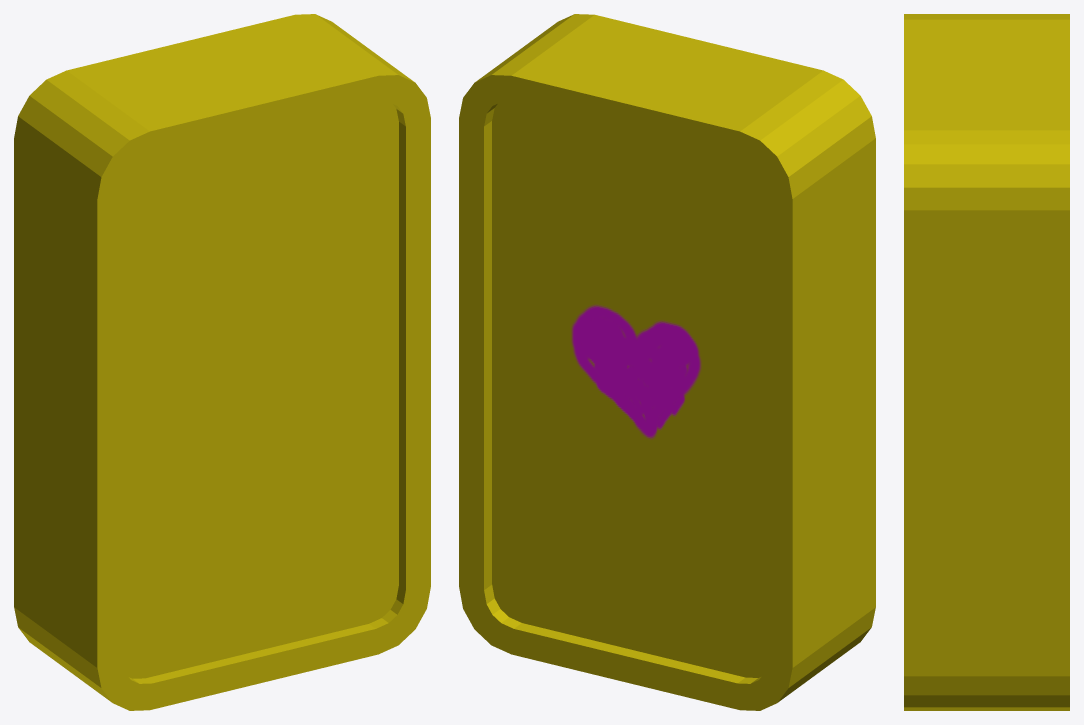
Rendered from domino.glb.
3 renders of one model, left to right at view 1: azimuth 30°, elevation 25°; view 2: azimuth 150°, elevation 25°; view 3: azimuth 270°, elevation 25°, orthographic.
Visible parts, largest first — view 1: Cube; view 2: Cube; view 3: Cube.
Boxes of the visible parts, left/top/right/bottom form: Cube: left=14, top=14, right=430, bottom=710; Cube: left=459, top=14, right=875, bottom=710; Cube: left=904, top=14, right=1069, bottom=710.
Size of the model in its own units: 0.647 by 1.07 by 0.2803.
Materials: 1 (1 with a texture image).
